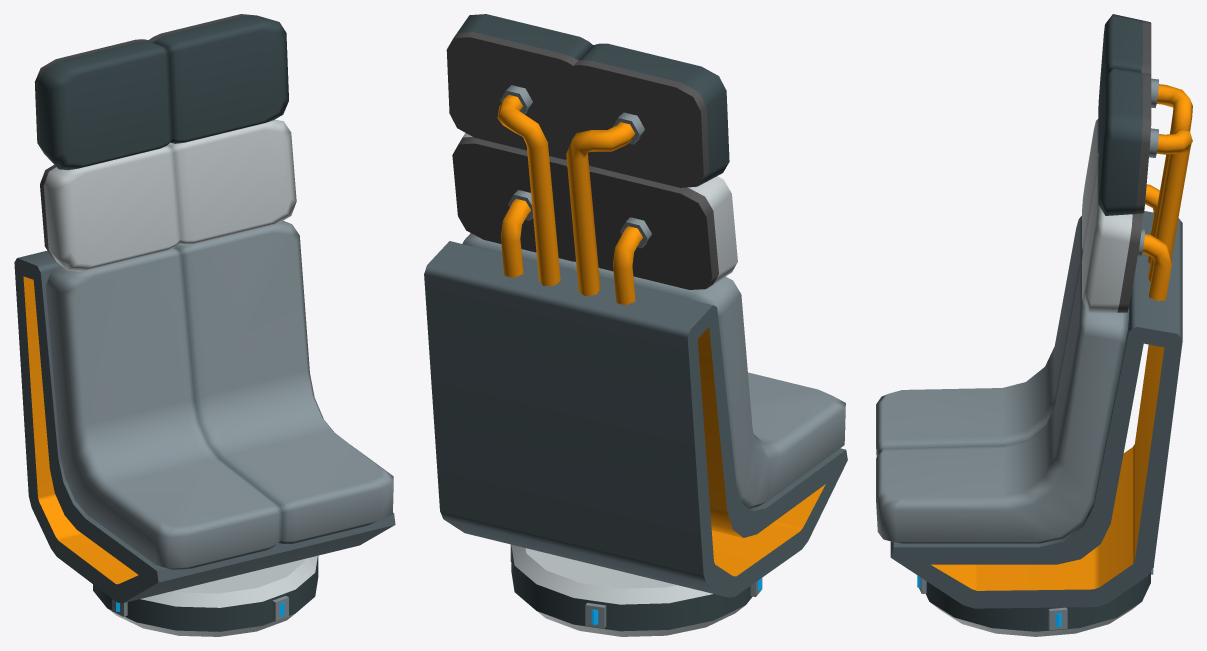
File: Armchair_008.glb
3 renders of one model, left to right at view 1: azimuth 30°, elevation 25°; view 2: azimuth 150°, elevation 25°; view 3: azimuth 270°, elevation 25°, orthographic. The views are drawn at different scales.
Visible parts, largest first — view 1: Armchair_008; view 2: Armchair_008; view 3: Armchair_008.
Boxes of the visible parts, x1=… form: Armchair_008: x1=14, y1=14, x2=395, y2=636; Armchair_008: x1=424, y1=14, x2=847, y2=636; Armchair_008: x1=876, y1=14, x2=1192, y2=636.
Bounding box in the file's own units: 0.6351 × 1.34 × 0.7258.
2 materials, 2 textured.
